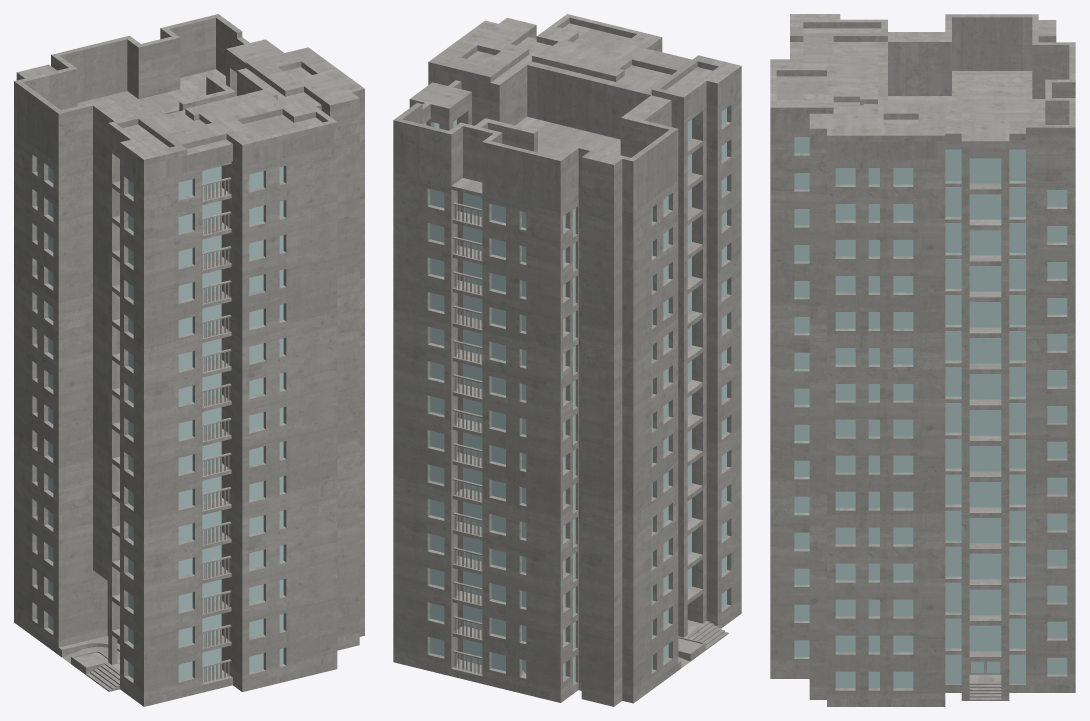
The model's file is apartment2.fbx.
The picture shows the model from 3 angles, left to right: view 1: azimuth 30°, elevation 25°; view 2: azimuth 150°, elevation 25°; view 3: azimuth 270°, elevation 25°; orthographic projection. The views are drawn at different scales.
Parts seen in each view (by area): view 1: Korean_Apartment; view 2: Korean_Apartment; view 3: Korean_Apartment.
Part boxes in pixels (<box>): Korean_Apartment: <box>14,14,364,706</box>; Korean_Apartment: <box>393,14,741,706</box>; Korean_Apartment: <box>770,14,1075,706</box>.
Bounding box in the file's own units: 462 × 455 × 953.
Materials: 4 (3 with a texture image).
